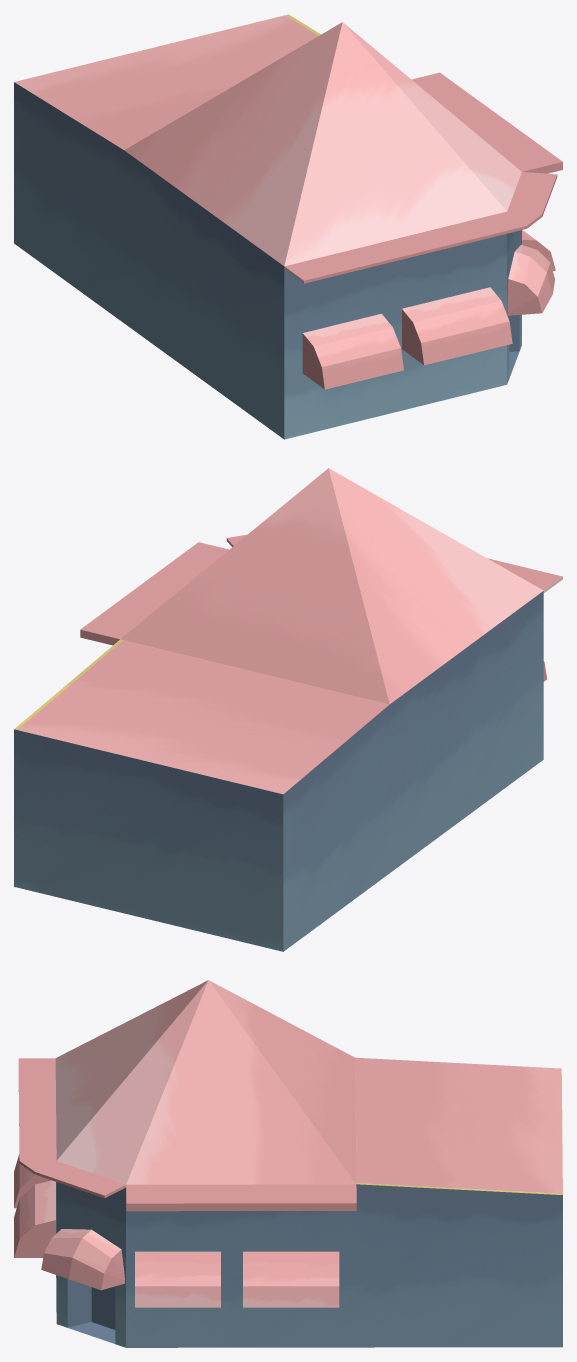
The model's file is le_bagagiste.fbx.
The picture shows the model from 3 angles, top to bottom: view 1: azimuth 30°, elevation 25°; view 2: azimuth 150°, elevation 25°; view 3: azimuth 270°, elevation 25°; orthographic projection. The views are drawn at different scales.
Visible parts, largest first — view 1: Le_Bagagiste; view 2: Le_Bagagiste; view 3: Le_Bagagiste.
Boxes of the visible parts, box(x1,y1,x2,y2) form: Le_Bagagiste: box(14, 14, 562, 439); Le_Bagagiste: box(14, 468, 562, 951); Le_Bagagiste: box(14, 980, 562, 1347).
Size of the model in its own units: 387 by 377 by 614.
